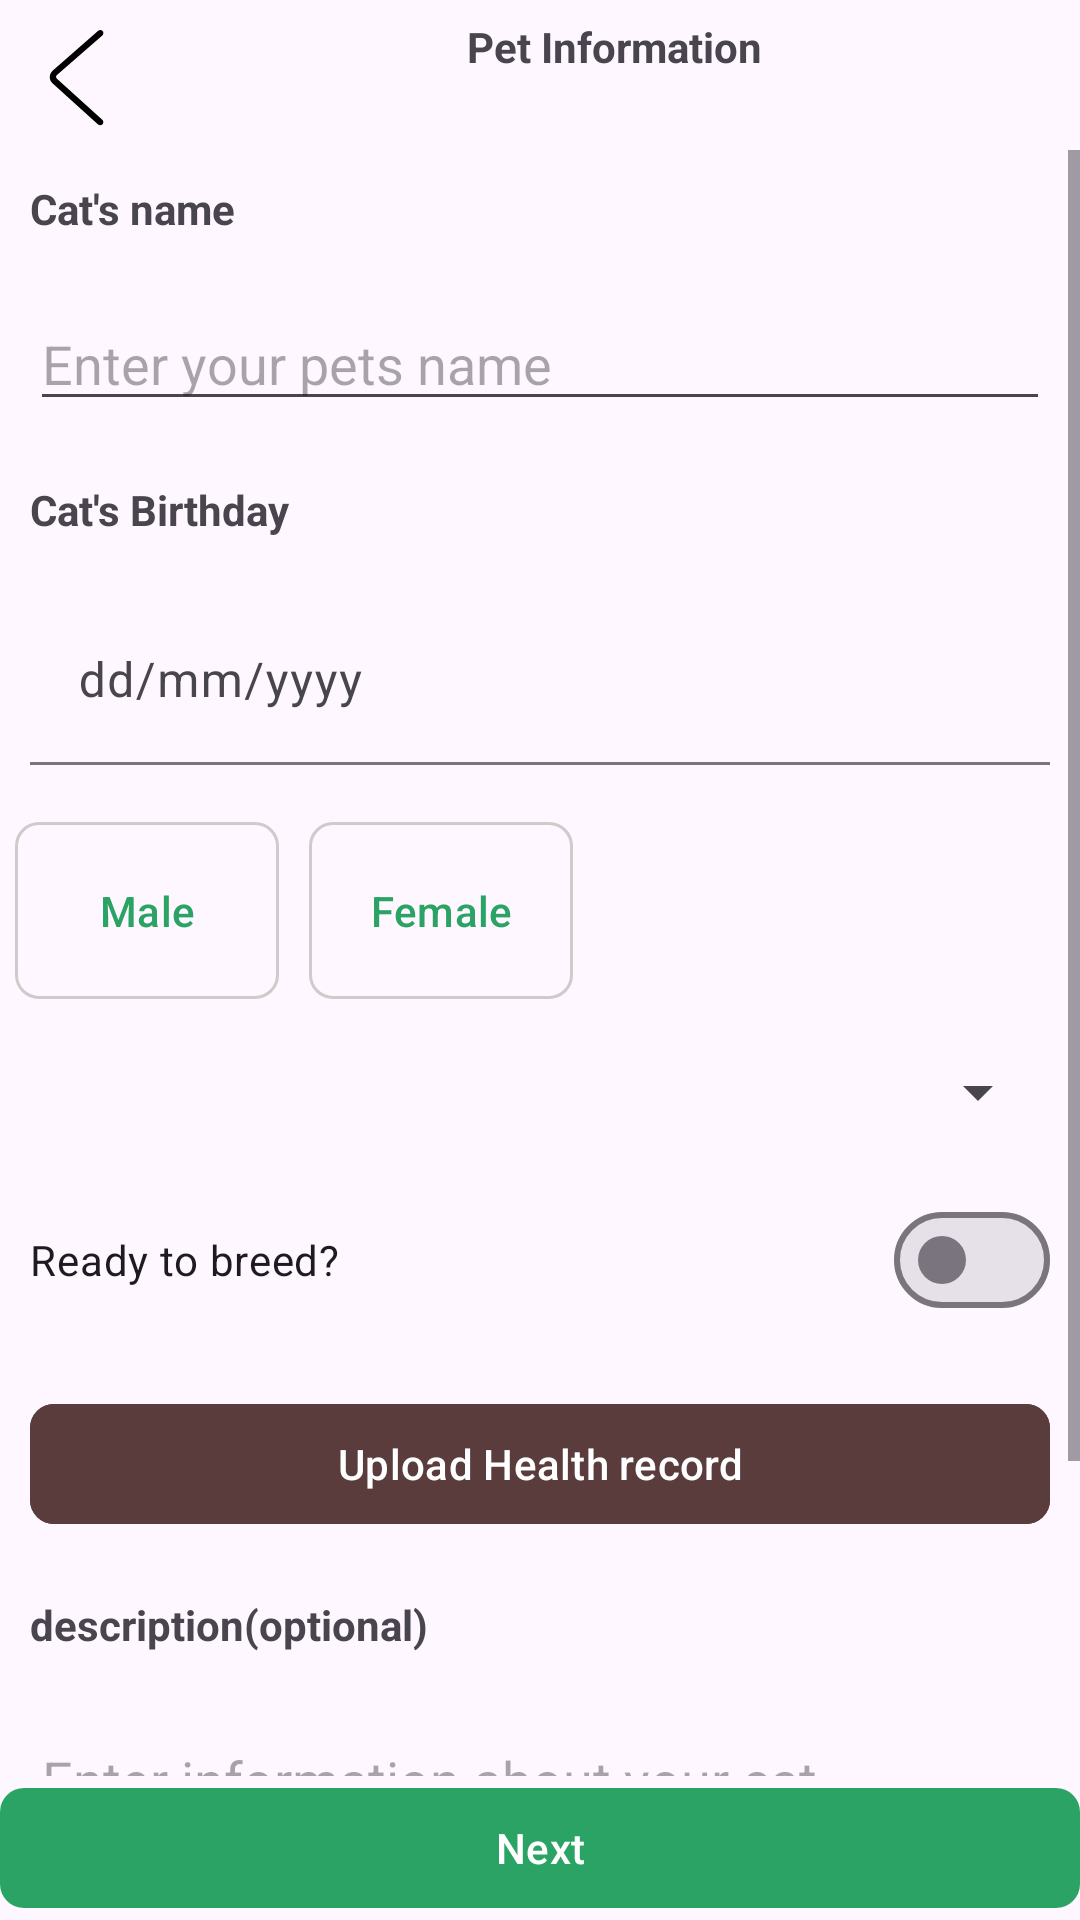

Where icons sit on this 1080 × 1920 app screen, as (x1, y1, x2, y2):
back: (49, 30, 104, 126)
